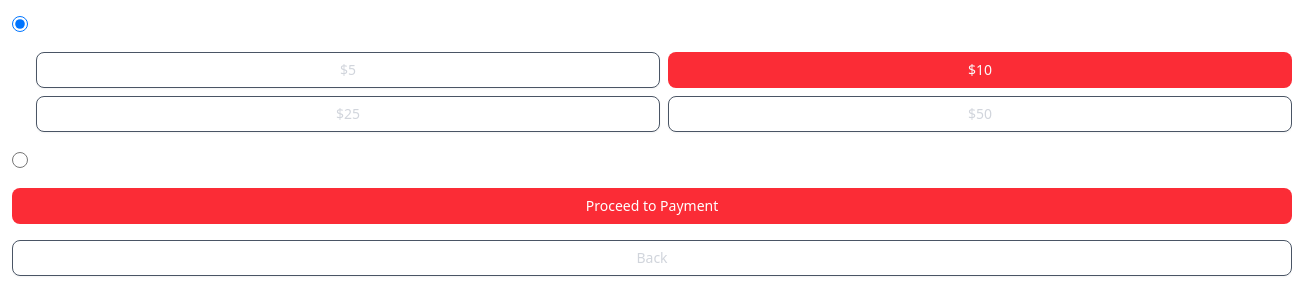
Test: DonationCheckout › should show error for invalid custom amount
This screenshot has width=1304, height=307.
Switch to custom amount
Click the radio button labelled "Custom One-off Amount": (20, 160) [12, 152, 28, 168]
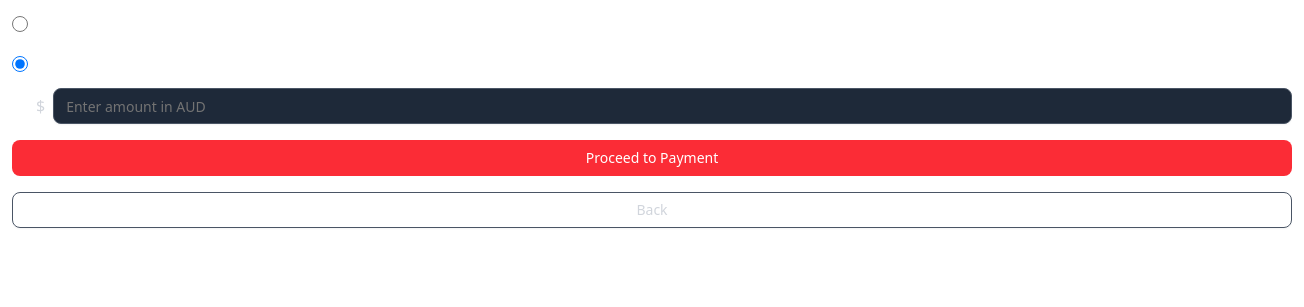
Enter invalid amount
In the number field with placeholder "Enter amount in AUD": (673, 106) [53, 88, 1292, 124], type "0.5"
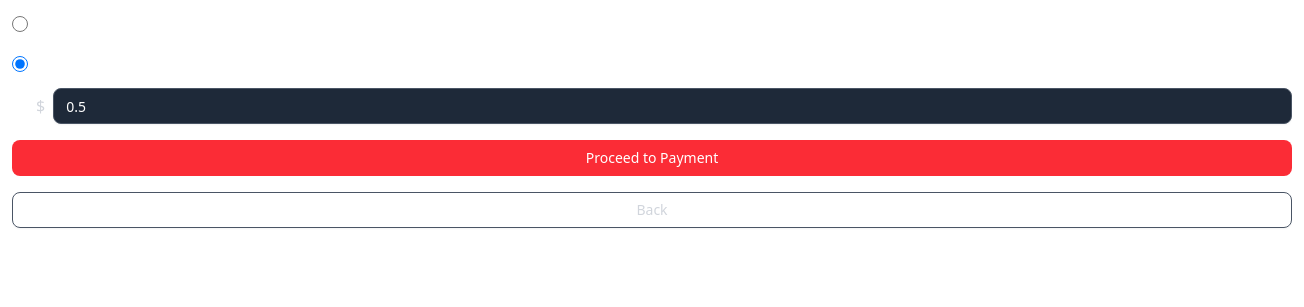
Click proceed
Click the button "Proceed to Payment": (652, 158) [12, 140, 1292, 176]
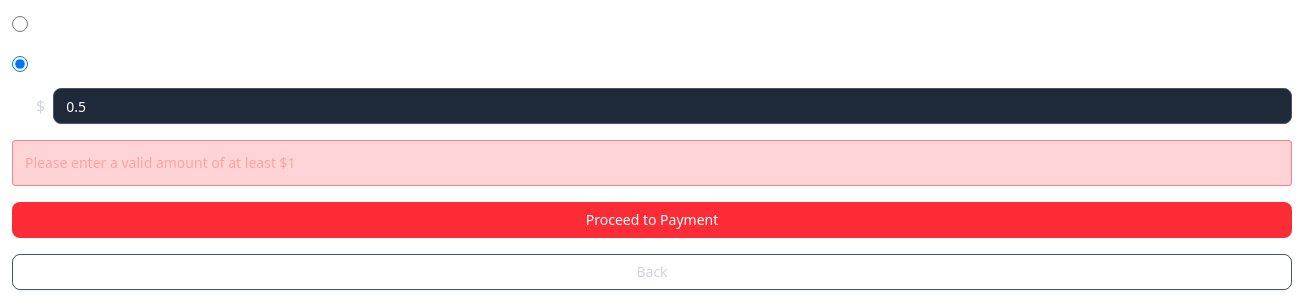
Result: the text "Please enter a valid amount of at least $1" is shown at [12, 140, 1292, 186]
